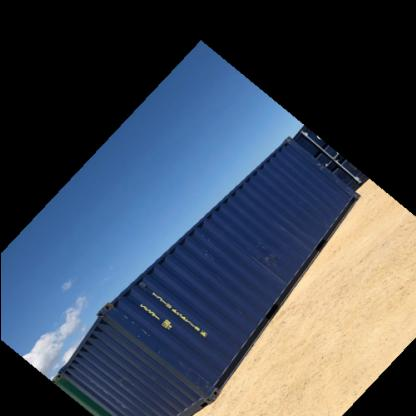Damage: (104, 308, 199, 392), (230, 245, 292, 278)
